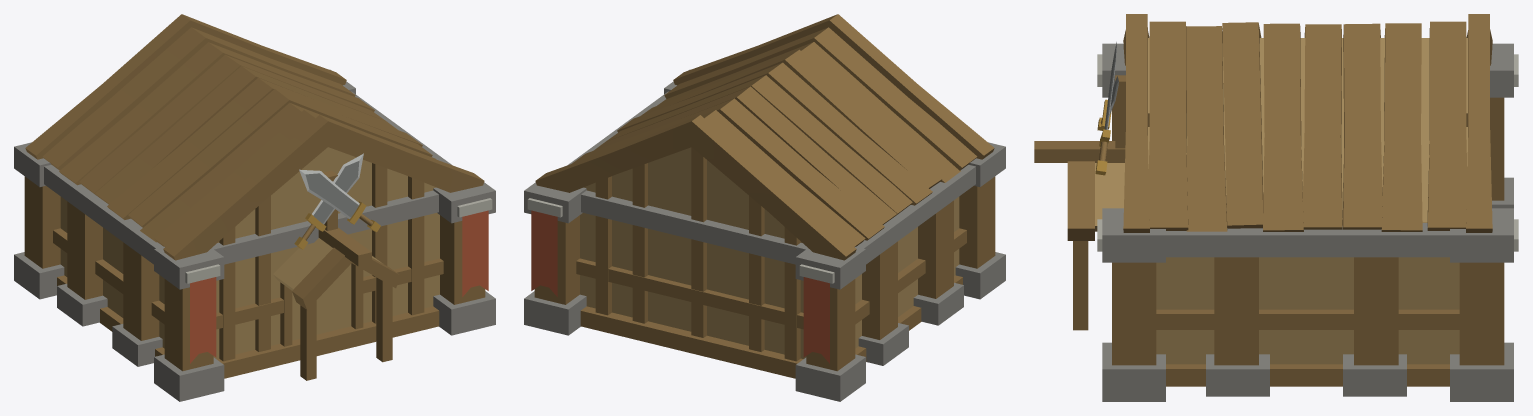
File: quaternius-real-time-strategy-barracks-first-age-level-1.glb
3 renders of one model, left to right at view 1: azimuth 30°, elevation 25°; view 2: azimuth 150°, elevation 25°; view 3: azimuth 270°, elevation 25°, orthographic. The views are drawn at different scales.
Parts seen in each view (by area): view 1: Barracks_FirstAge_Level1; view 2: Barracks_FirstAge_Level1; view 3: Barracks_FirstAge_Level1.
Boxes of the visible parts, bbox=[...] form: Barracks_FirstAge_Level1: bbox=[14, 14, 495, 401]; Barracks_FirstAge_Level1: bbox=[524, 14, 1005, 401]; Barracks_FirstAge_Level1: bbox=[1034, 14, 1518, 401].
Size of the model in its own units: 1.01 by 0.7192 by 1.08.
Materials: 1 (1 with a texture image).
